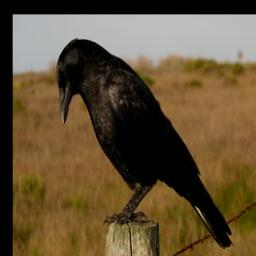Crow: (56, 38, 235, 249)
